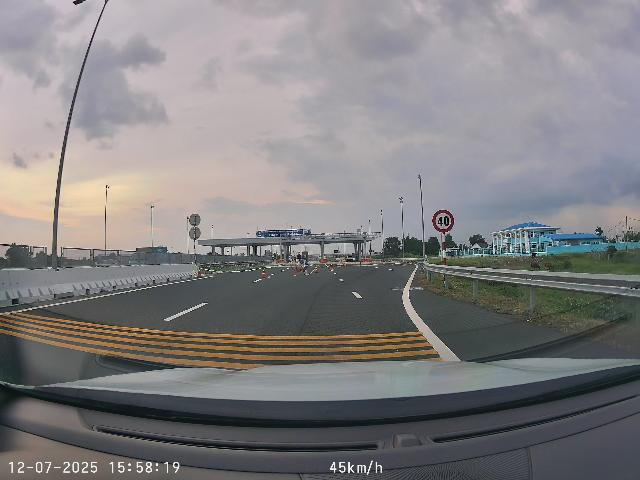127-toc-do-toi-da-40: (432, 209, 455, 233)
